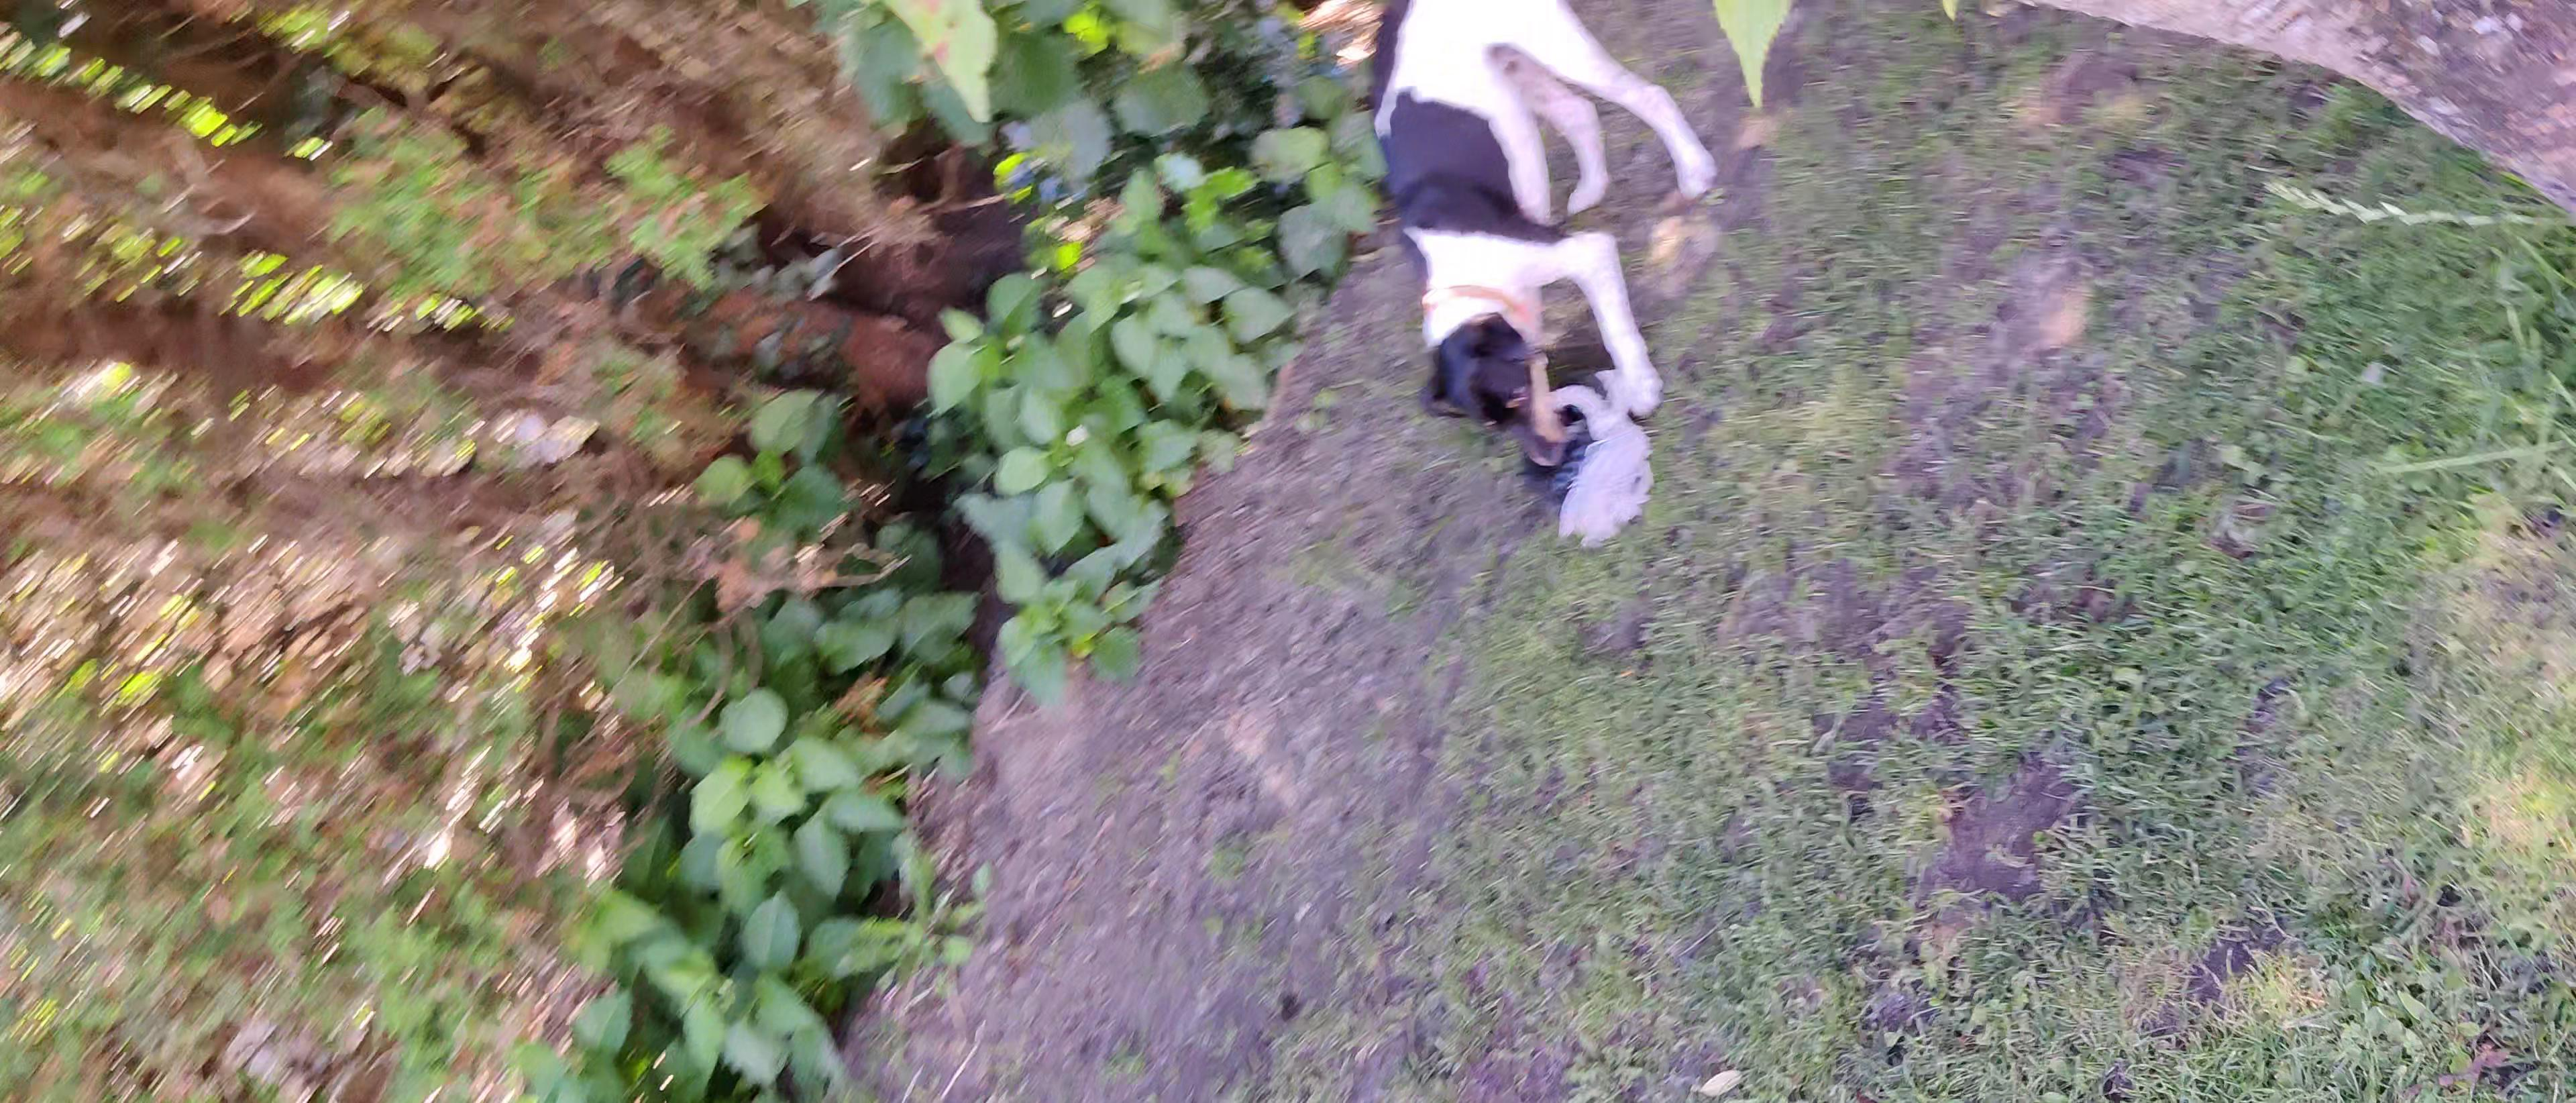Dog: (1360, 0, 1720, 470)
